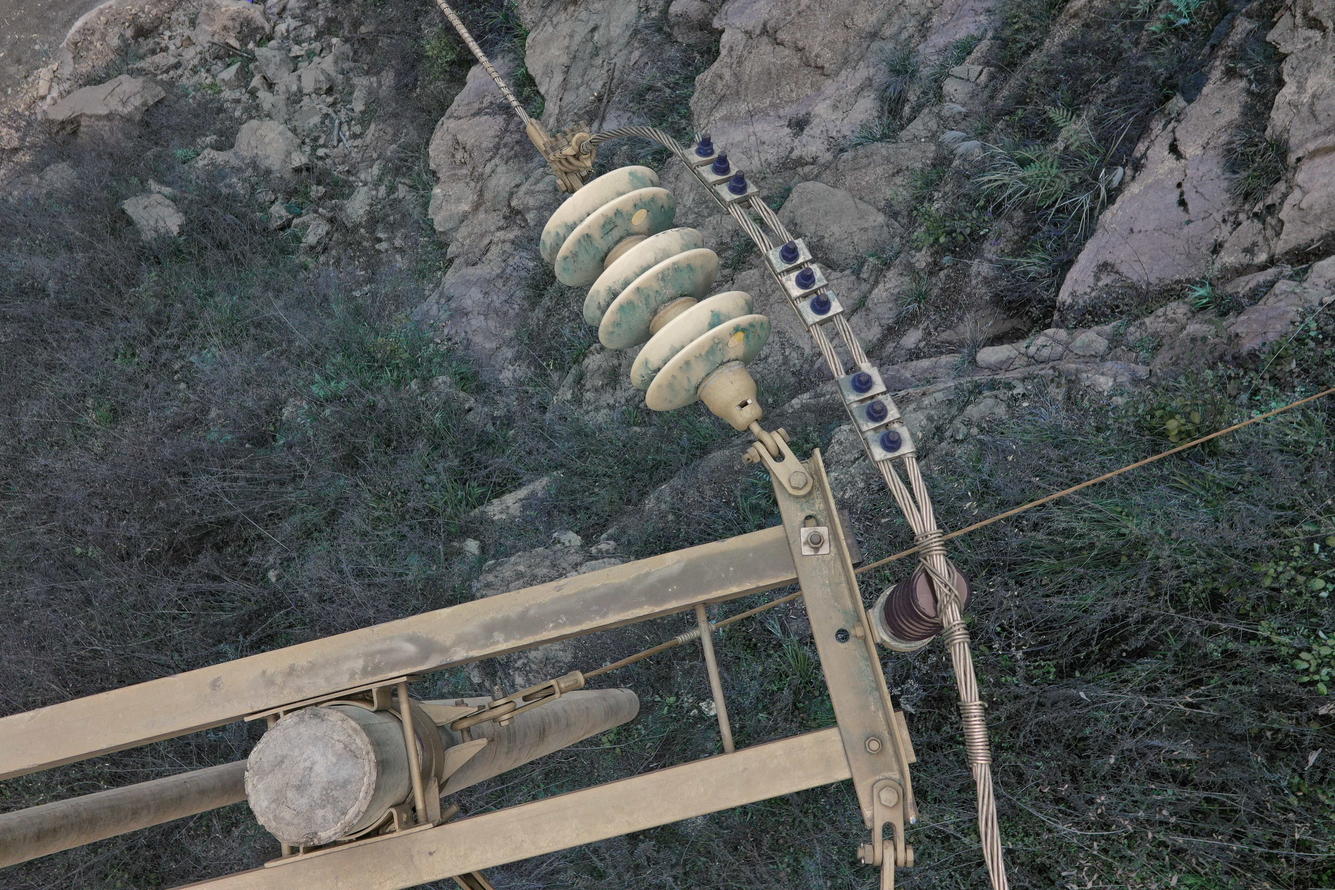severe_soiling_no_discharge_whole: (537, 160, 777, 434)
